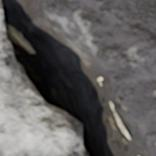broken_brick: (55, 0, 155, 154), (0, 6, 86, 155)
crack: (0, 0, 155, 155)
